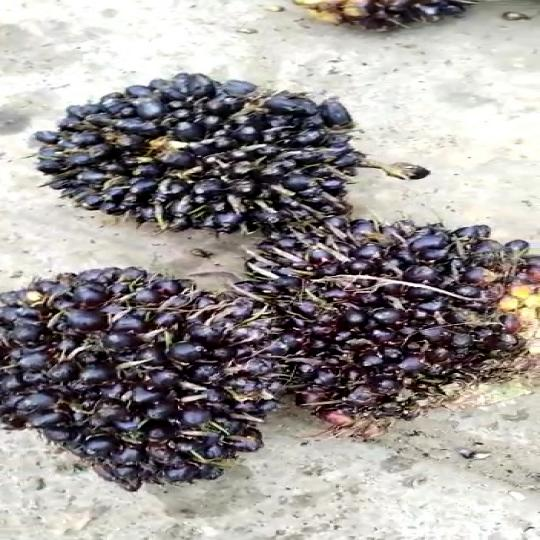mentah: (241, 213, 540, 454), (0, 257, 291, 499), (35, 65, 405, 233)
